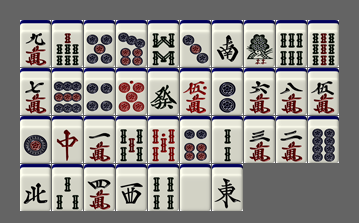0m: (180, 68, 211, 115)
0p: (116, 68, 147, 115)
0s: (148, 116, 179, 163)
1m: (84, 116, 115, 163)
1p: (20, 116, 51, 163)
1s: (244, 20, 275, 67)
1z: (212, 164, 243, 211)
2m: (276, 116, 307, 163)
2p: (212, 68, 243, 115)
2s: (212, 116, 243, 163)
2z: (212, 20, 243, 67)
3m: (244, 116, 275, 163)
3p: (180, 20, 211, 67)
3s: (52, 164, 83, 211)
3z: (116, 164, 147, 211)
4m: (84, 164, 115, 211)
4p: (84, 68, 115, 115)
4s: (148, 164, 179, 211)
4z: (20, 164, 51, 211)
5m: (308, 68, 339, 115)
5p: (84, 20, 115, 67)
5s: (116, 116, 147, 163)
5z: (180, 164, 211, 211)
6m: (244, 68, 275, 115)
6p: (180, 116, 211, 163)
6s: (276, 20, 307, 67)
6z: (148, 68, 179, 115)
7m: (20, 68, 51, 115)
7p: (116, 20, 147, 67)
7s: (52, 20, 83, 67)
7z: (52, 116, 83, 163)
8m: (276, 68, 307, 115)
8p: (308, 116, 339, 163)
8s: (148, 20, 179, 67)
9m: (20, 20, 51, 67)
9p: (52, 68, 83, 115)
9s: (308, 20, 339, 67)
